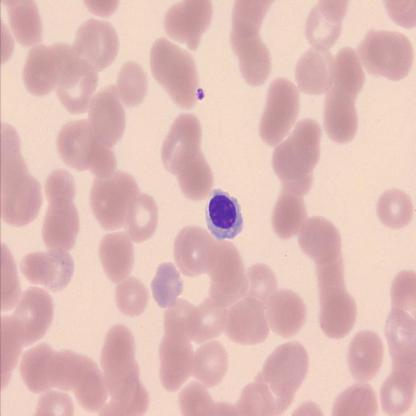NRC: (203, 187, 245, 242)
